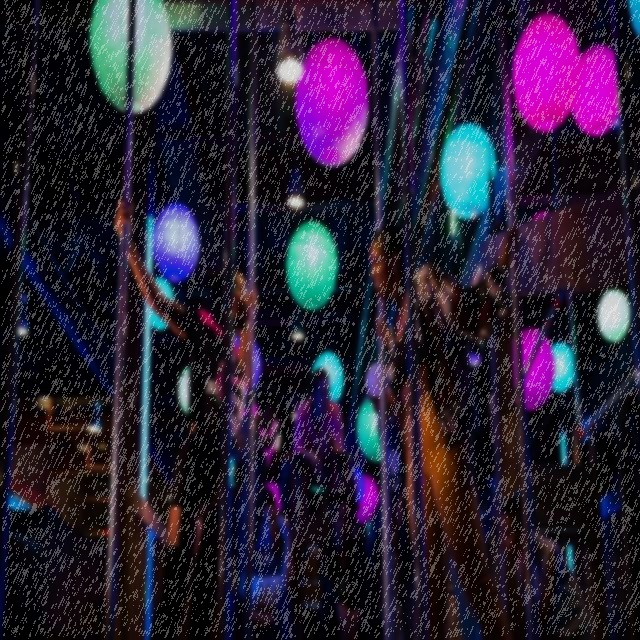pessoa: (363, 206, 529, 638), (106, 194, 260, 638), (364, 358, 420, 638), (494, 488, 596, 638), (230, 379, 282, 594), (316, 492, 372, 638), (238, 486, 294, 630), (292, 366, 346, 484)
